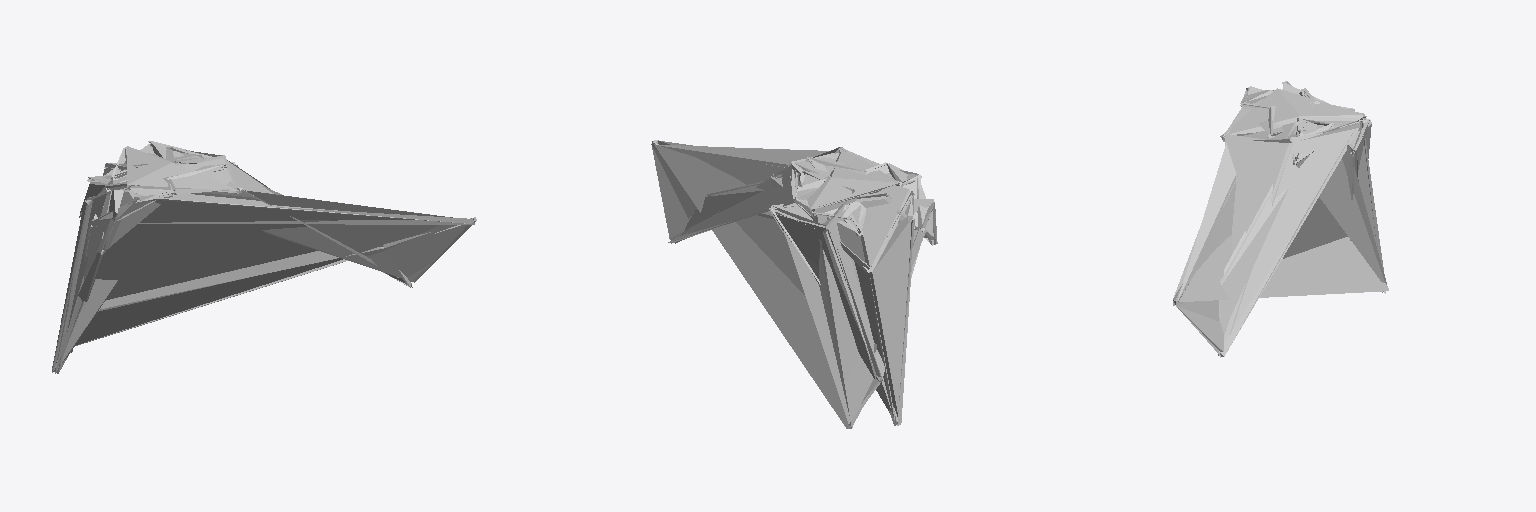
File: Gum drop.obj
The picture shows the model from 3 angles: view 1: azimuth 30°, elevation 25°; view 2: azimuth 150°, elevation 25°; view 3: azimuth 270°, elevation 25°; orthographic projection.
Visible parts, largest first — view 1: Cylinder006; view 2: Cylinder006; view 3: Cylinder006.
Boxes of the visible parts, box(x1,y1,x2,y2) form: Cylinder006: box(52, 141, 476, 373); Cylinder006: box(651, 140, 937, 428); Cylinder006: box(1173, 81, 1388, 357).
Bounding box in the file's own units: 366402 × 215764 × 206311.